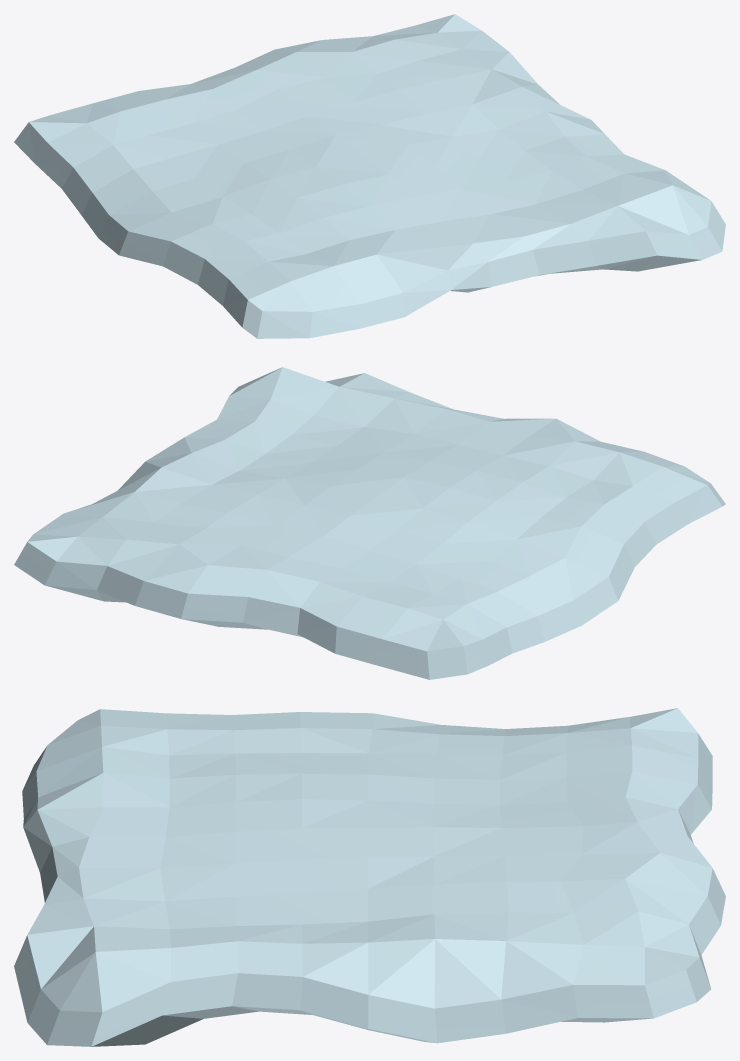
File: SM_Bld_Village_SnowSheet_01.gltf
3 views of the same model, one above another, from view 1: azimuth 30°, elevation 25°; view 2: azimuth 150°, elevation 25°; view 3: azimuth 270°, elevation 25° (orthographic). The views are drawn at different scales.
Visible parts, largest first — view 1: SM_Bld_Village_SnowSheet_01; view 2: SM_Bld_Village_SnowSheet_01; view 3: SM_Bld_Village_SnowSheet_01.
Part boxes in pixels (<box>): SM_Bld_Village_SnowSheet_01: <box>14,14,725,338</box>; SM_Bld_Village_SnowSheet_01: <box>14,367,725,679</box>; SM_Bld_Village_SnowSheet_01: <box>14,708,725,1046</box>.
Bounding box in the file's own units: 4.62 × 0.7625 × 4.59.
1 material, 1 textured.
